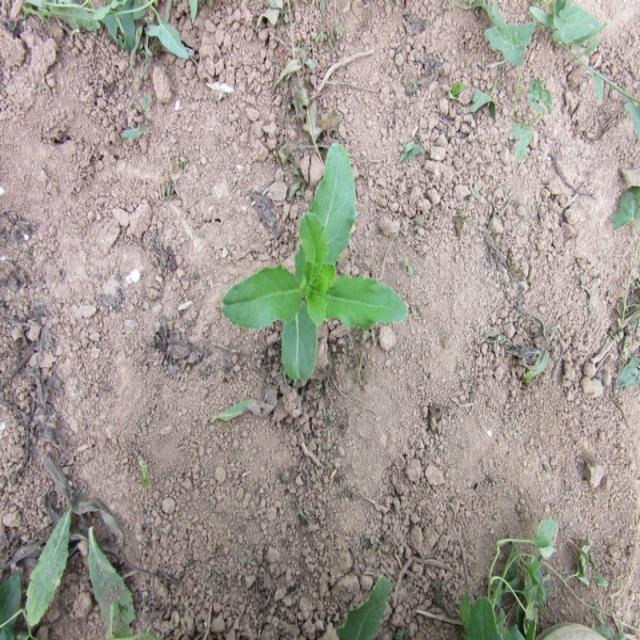cs: (219, 137, 413, 397)
